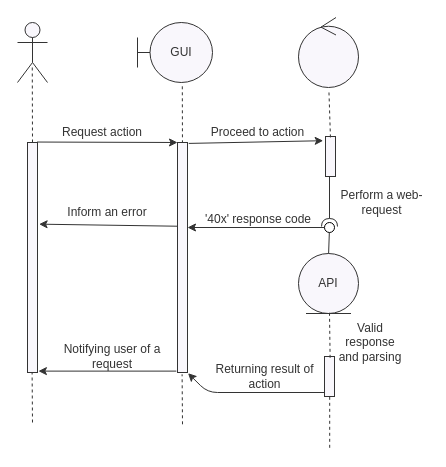
This 446x467 diagram has some shape labels left out. Each missing label, with the box of its shape:
Program: (298, 16, 358, 88)
User: (16, 22, 48, 82)
